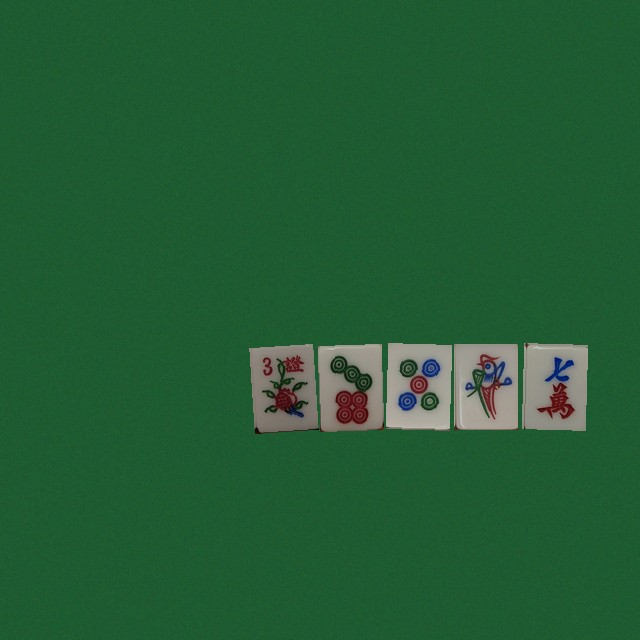tile: (249, 343, 313, 429), (317, 343, 381, 429), (385, 343, 449, 429), (453, 343, 517, 429), (521, 343, 585, 429)
